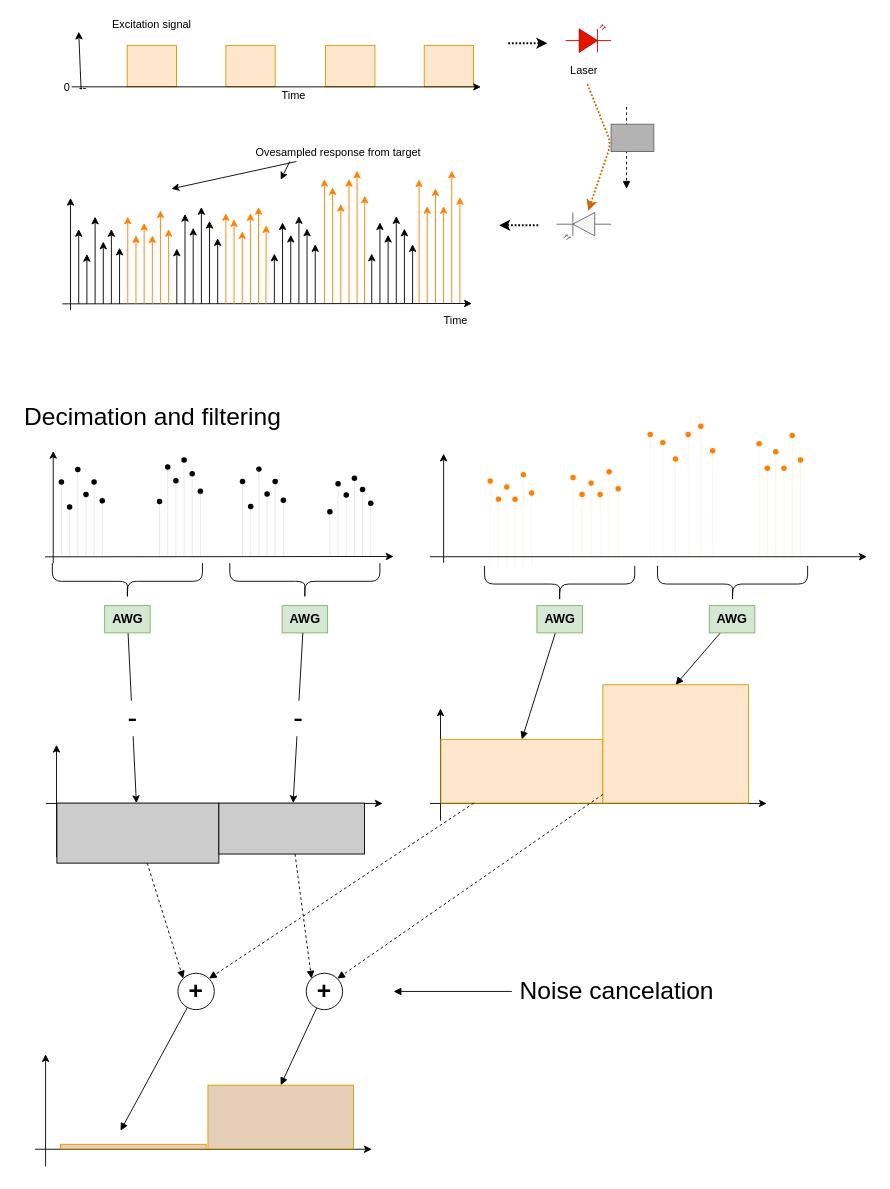
Image size: 890x1189. Some labels were removed from this diagram. Here are the shapes that lost their labels. From the top down, the box of each, then its label:
(610, 123, 654, 152): Moving target
(556, 212, 611, 240): Photodiode Sensing variation in reflection from moving target
